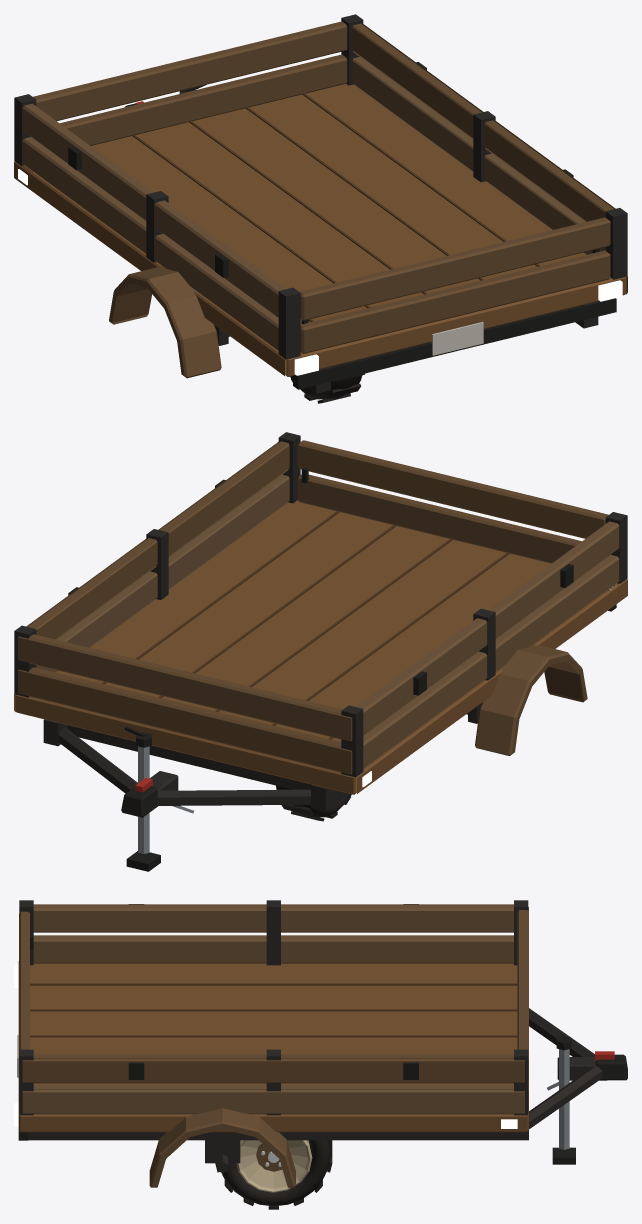
The model's file is PonyTrailer_Flatbed.glb.
3 renders of one model, top to bottom at view 1: azimuth 30°, elevation 25°; view 2: azimuth 150°, elevation 25°; view 3: azimuth 270°, elevation 25°, orthographic. The views are drawn at different scales.
Visible parts, largest first — view 1: Bed, Body, Lights, Wheel; view 2: Bed, Body, Hitch, Wheel; view 3: Bed, Body, Wheel, Hitch.
Part boxes in pixels (left/top/right/bottom): Bed: left=14, top=14, right=627, bottom=376; Body: left=109, top=266, right=616, bottom=393; Lights: left=18, top=169, right=622, bottom=375; Wheel: left=290, top=373, right=365, bottom=403; Bed: left=14, top=432, right=627, bottom=794; Body: left=43, top=604, right=616, bottom=811; Hitch: left=58, top=726, right=310, bottom=871; Wheel: left=276, top=785, right=351, bottom=821; Bed: left=18, top=900, right=528, bottom=1132; Body: left=17, top=1035, right=528, bottom=1187; Wheel: left=215, top=1140, right=332, bottom=1209; Hitch: left=529, top=1008, right=627, bottom=1164.
Size of the model in its own units: 11.09 by 6.32 by 15.64.
